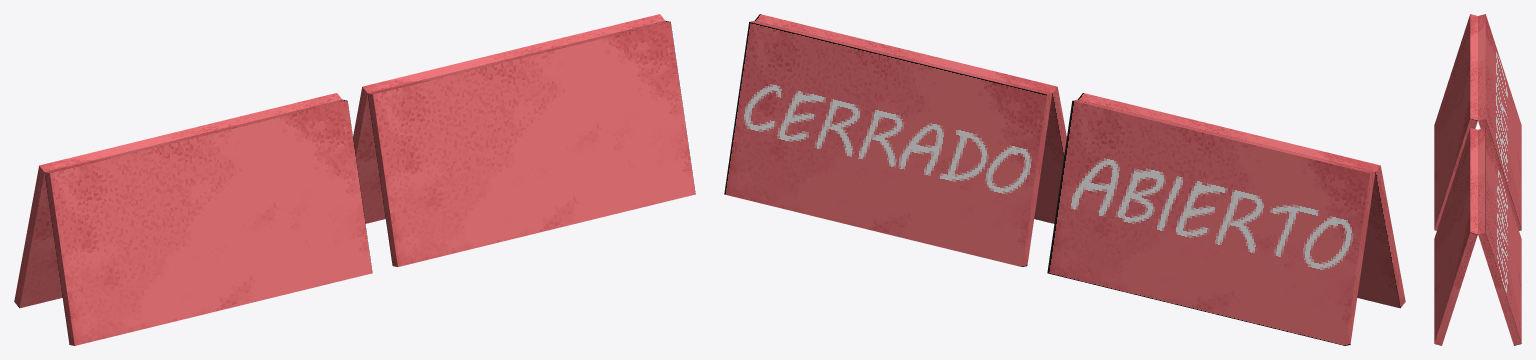
File: cartel_a_c.glb
3 renders of one model, left to right at view 1: azimuth 30°, elevation 25°; view 2: azimuth 150°, elevation 25°; view 3: azimuth 270°, elevation 25°, orthographic. The views are drawn at different scales.
Visible parts, largest first — view 1: front_0.003, front_0.004, back_1.003, back_1.004; view 2: back_1.003, back_1.004, front_0.003, front_0.004; view 3: back_1.004, front_0.004, back_1.003, front_0.003.
Boxes of the visible parts, x1,y1,x2,y2 form: front_0.003: [44, 99, 372, 345]; front_0.004: [367, 21, 695, 266]; back_1.003: [14, 93, 341, 308]; back_1.004: [353, 14, 665, 223]; back_1.003: [1047, 99, 1375, 345]; back_1.004: [724, 21, 1052, 266]; front_0.003: [1078, 93, 1405, 308]; front_0.004: [754, 14, 1066, 223]; back_1.004: [1478, 128, 1521, 345]; front_0.004: [1434, 128, 1477, 345]; back_1.003: [1478, 14, 1521, 230]; front_0.003: [1434, 14, 1477, 230].
Bounding box in the file's own units: 2.02 × 0.4887 × 0.3412.
Materials: 2 (2 with a texture image).
